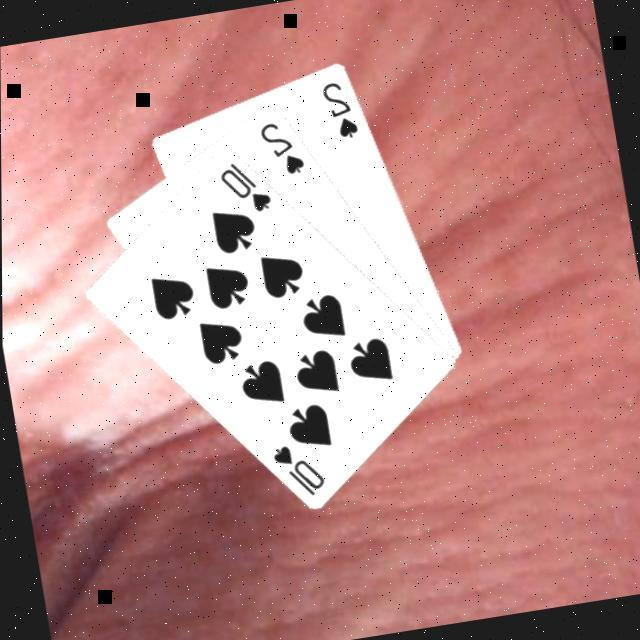10S: (266, 438, 330, 506), (213, 155, 276, 223)
2S: (254, 115, 308, 183), (316, 77, 362, 146)
